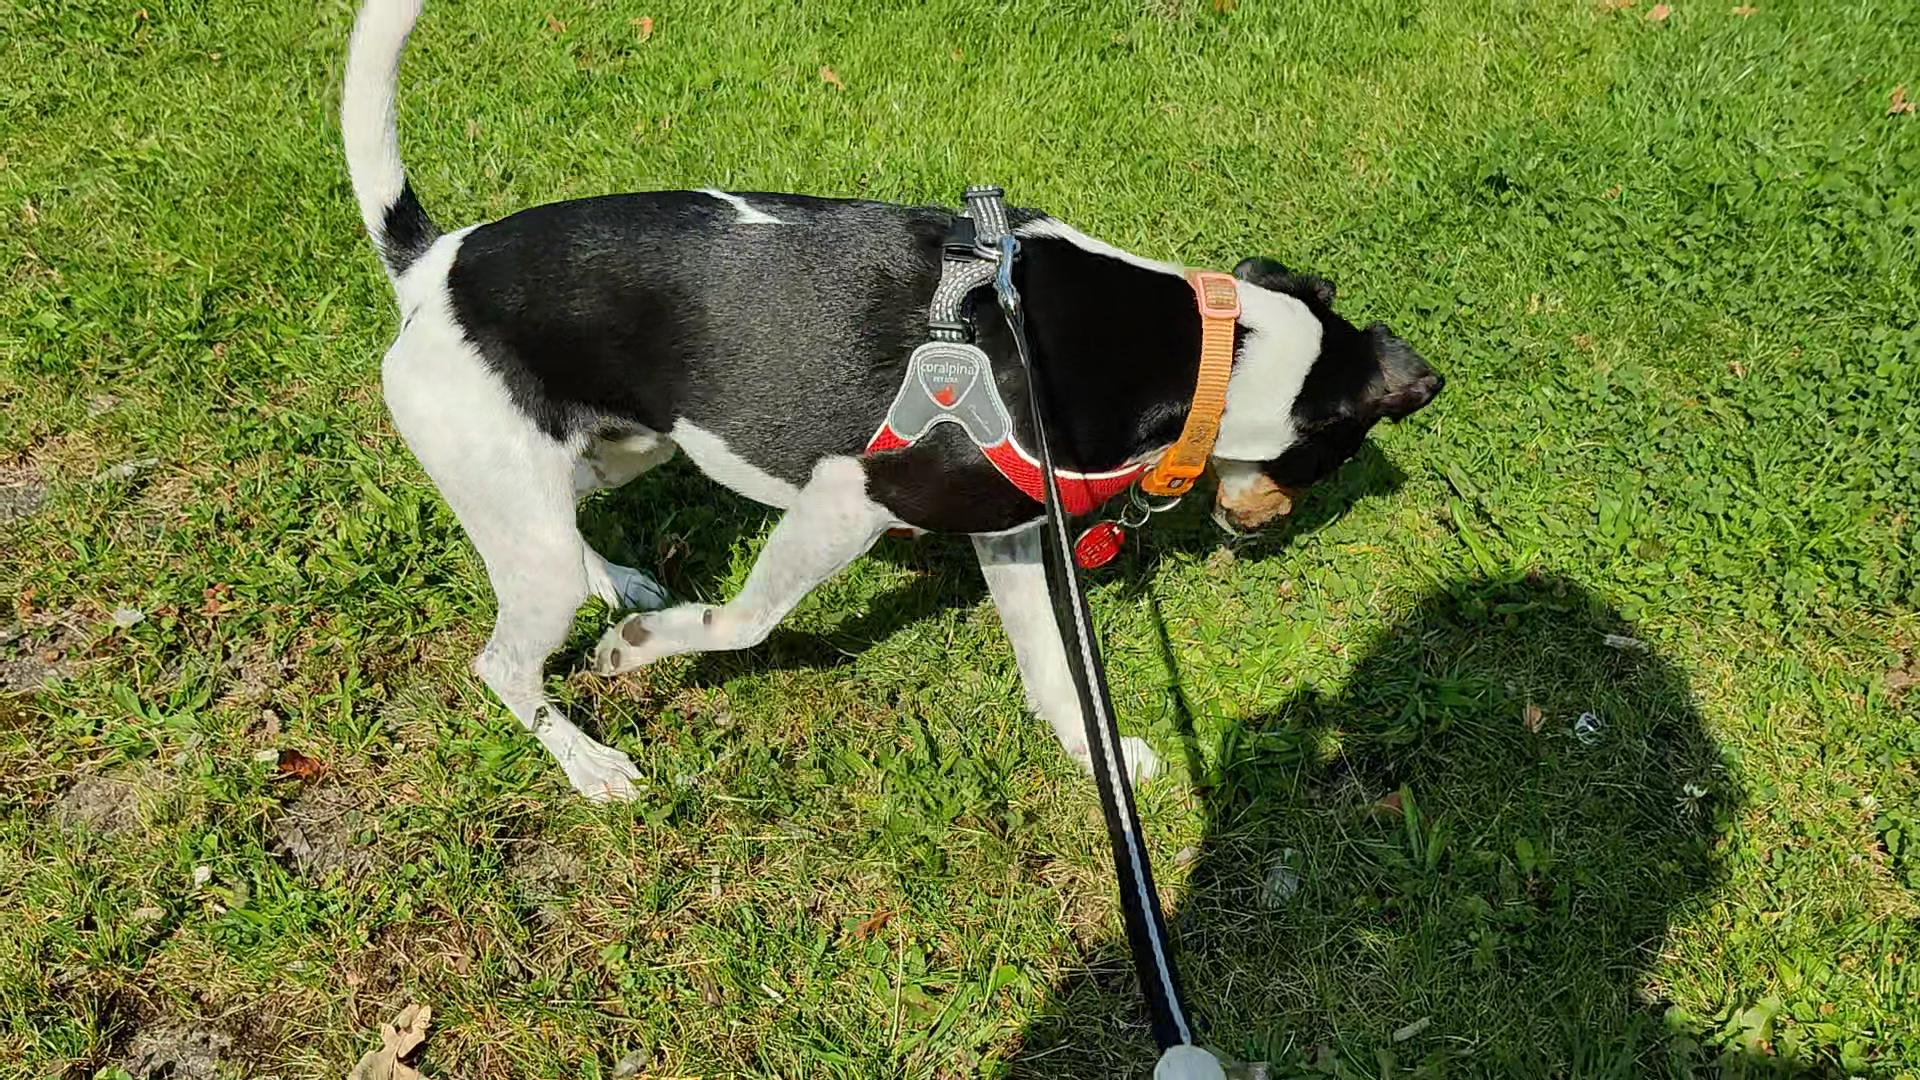Dog: (315, 0, 1457, 808)
